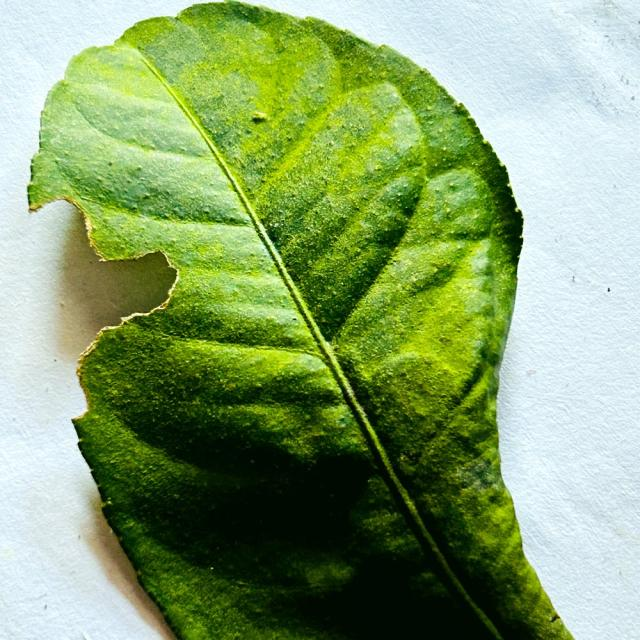Deficiency Leaf: (0, 201, 175, 404)
Lemon: (28, 2, 571, 639)
